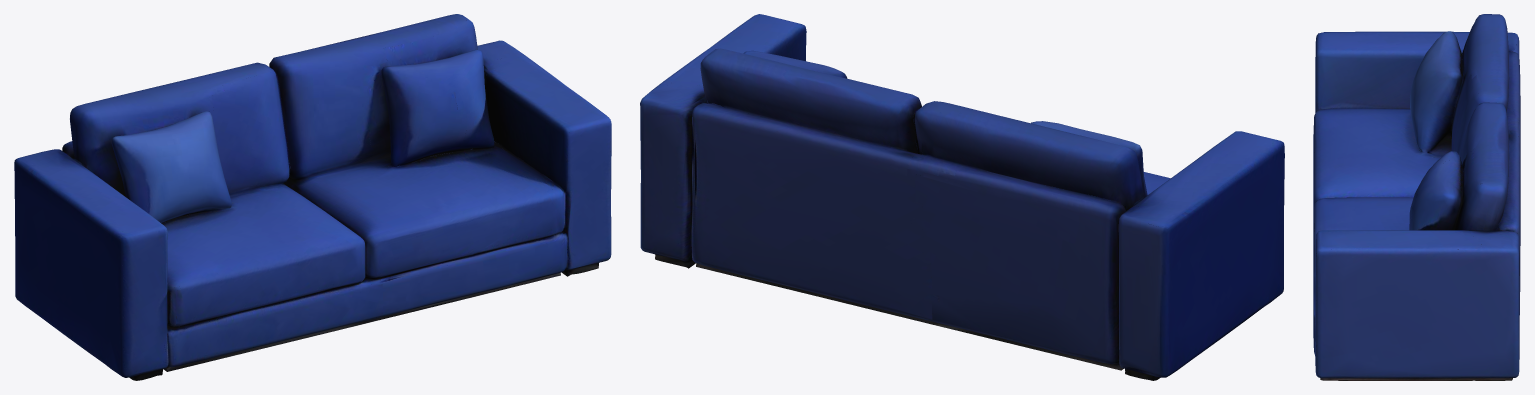
Rendered from sofa.glb.
3 views of the same model, side by side, from view 1: azimuth 30°, elevation 25°; view 2: azimuth 150°, elevation 25°; view 3: azimuth 270°, elevation 25° (orthographic). The views are drawn at different scales.
Visible parts, largest first — view 1: model.001; view 2: model.001; view 3: model.001.
Part boxes in pixels (x1,y1,x2,y2): model.001: (14, 14, 611, 380); model.001: (640, 14, 1284, 380); model.001: (1313, 14, 1520, 380).
Size of the model in its own units: 1.87 by 0.7102 by 0.7469.
Materials: 1 (1 with a texture image).
